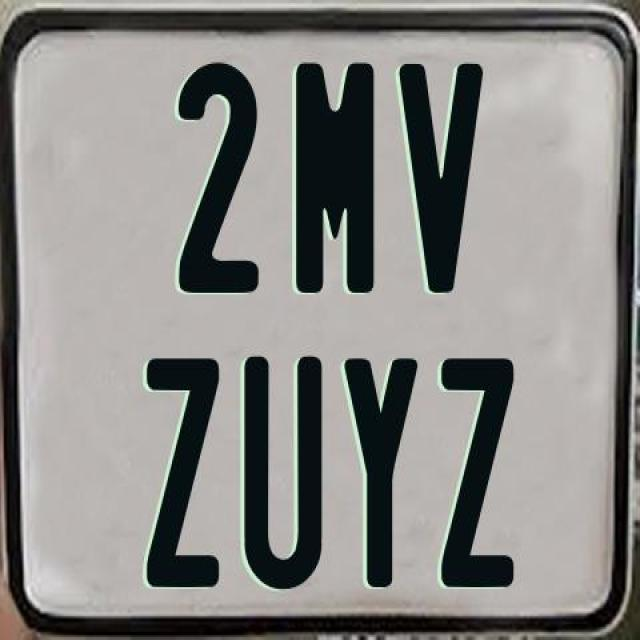2: (175, 62, 262, 293)
M: (294, 59, 378, 296)
U: (240, 354, 324, 596)
V: (394, 64, 482, 299)
Y: (340, 355, 415, 587)
Z: (437, 356, 516, 594), (144, 357, 222, 590)
